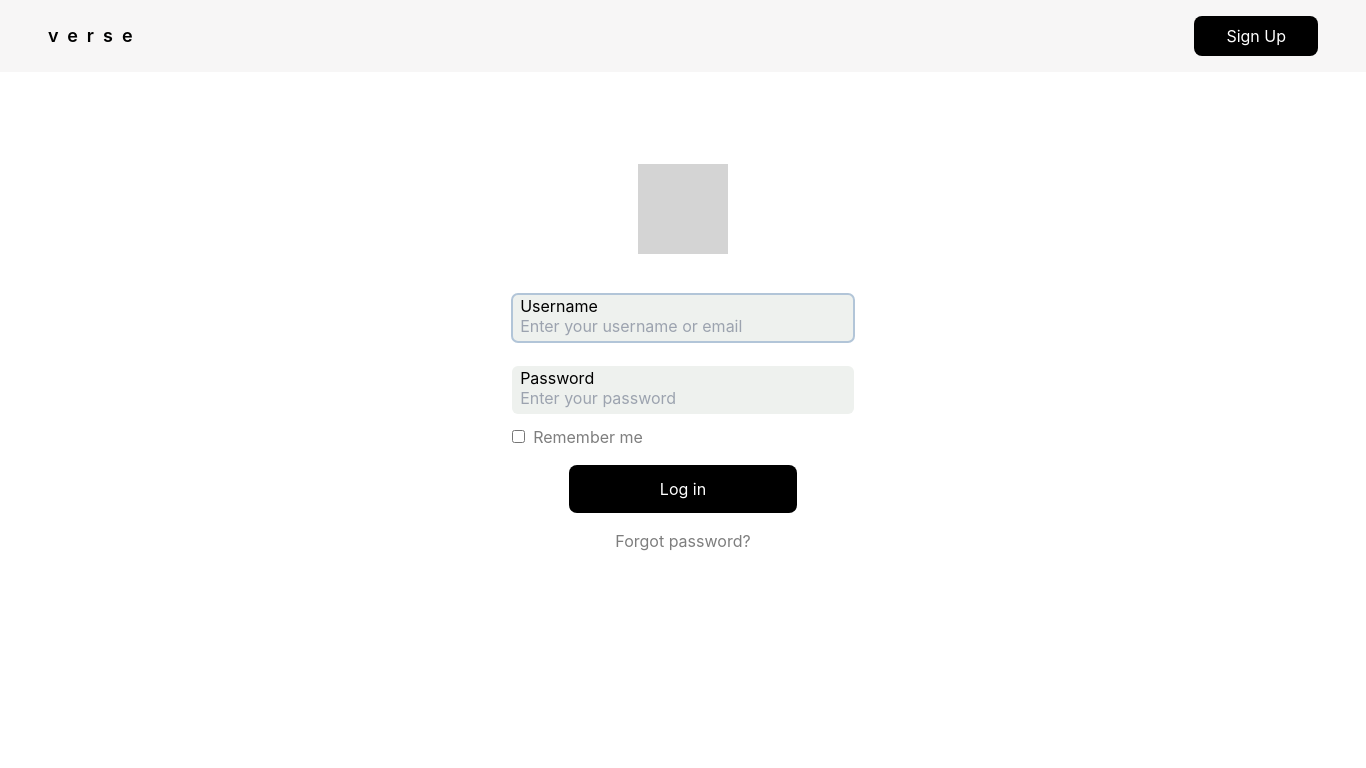
Test: Login › displays the error message when username and password are empty
Note: Simulate a click on the login button with empty username and password fields
Click the button with test id "login-button". click: (683, 489)
box: [569, 465, 797, 513]
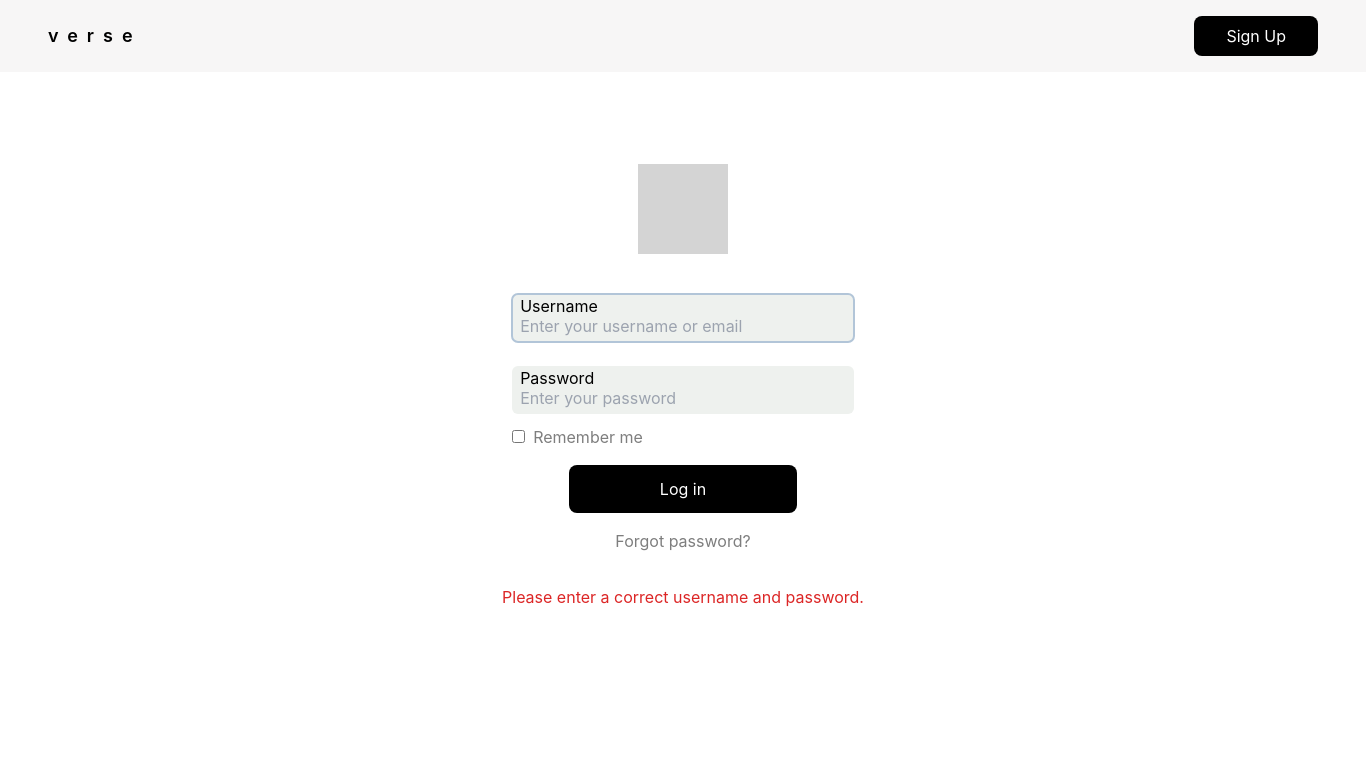
Check: the text "Please enter a correct username and password." is shown, box [502, 585, 864, 609]
